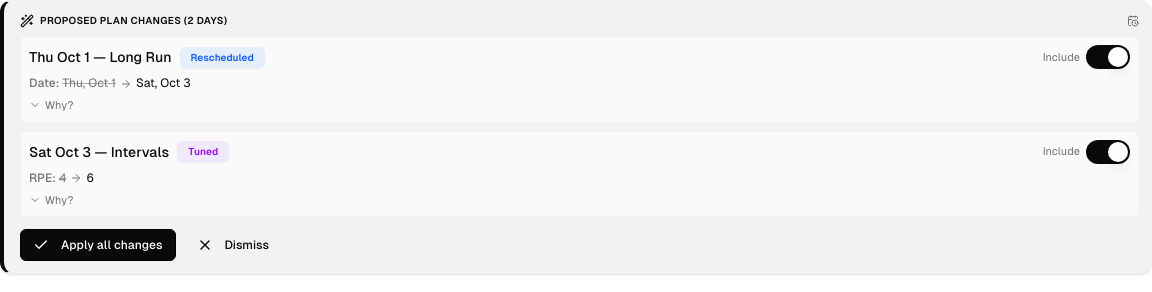
Test: PlanProposalCard › with more than one change › can't apply with every change left out
Click the switch with test id "switch-include-change-day-1".
click(1108, 57)  # box [1086,45,1130,69]
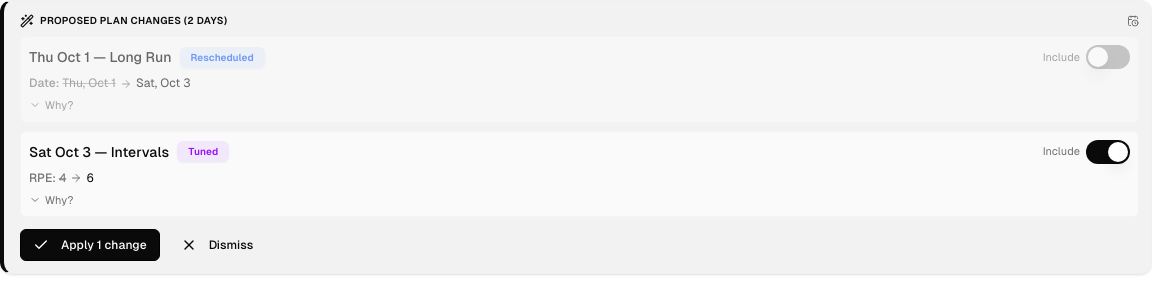
Click the switch with test id "switch-include-change-day-2".
click(1108, 152)  # box [1086,140,1130,164]
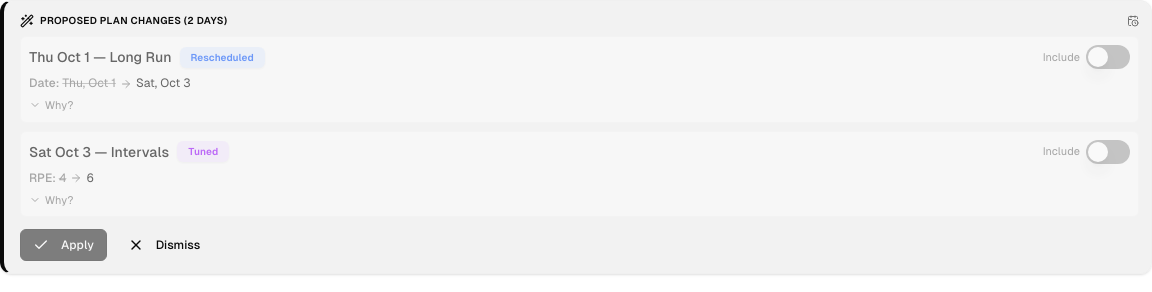
Result: the button with test id "button-apply-plan-proposal" is disabled at [20,229,107,261]
